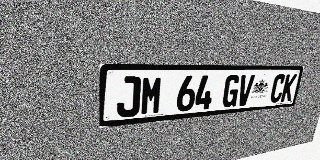4: (194, 75, 215, 110)
6: (176, 75, 198, 112)
C: (269, 74, 286, 103)
G: (221, 75, 241, 108)
J: (116, 76, 141, 118)
K: (280, 74, 297, 102)
M: (140, 76, 164, 116)
V: (236, 75, 255, 106)
